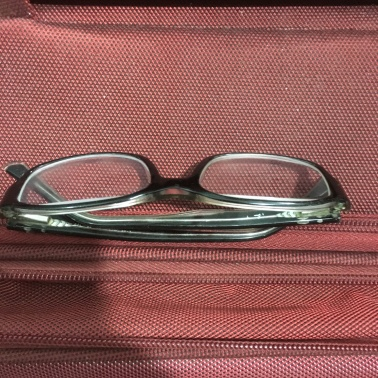glasses: (15, 140, 331, 258)
